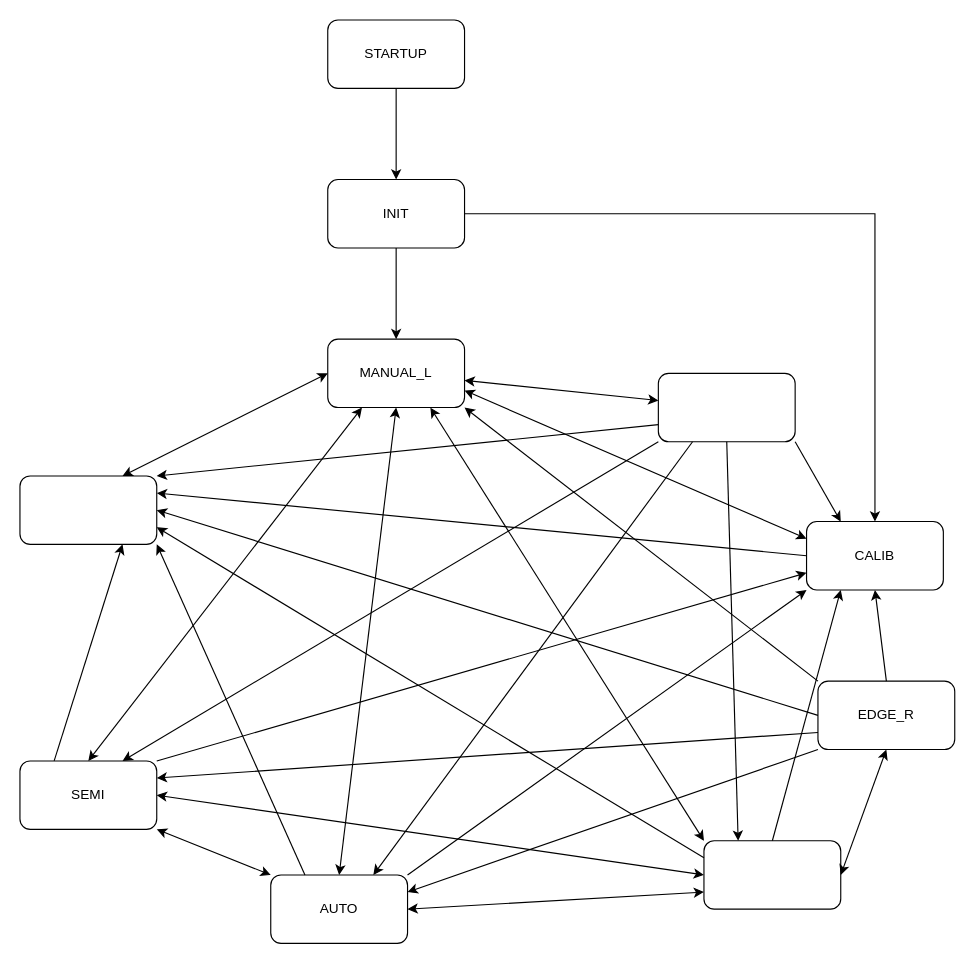
Image size: 975x963. Some labels were removed from this diagram. The centre of each missing label's shape, as x and y in pixels:
EDGE_L: (772,874)
ERROR: (88,509)
MANUAL_R: (726,407)
